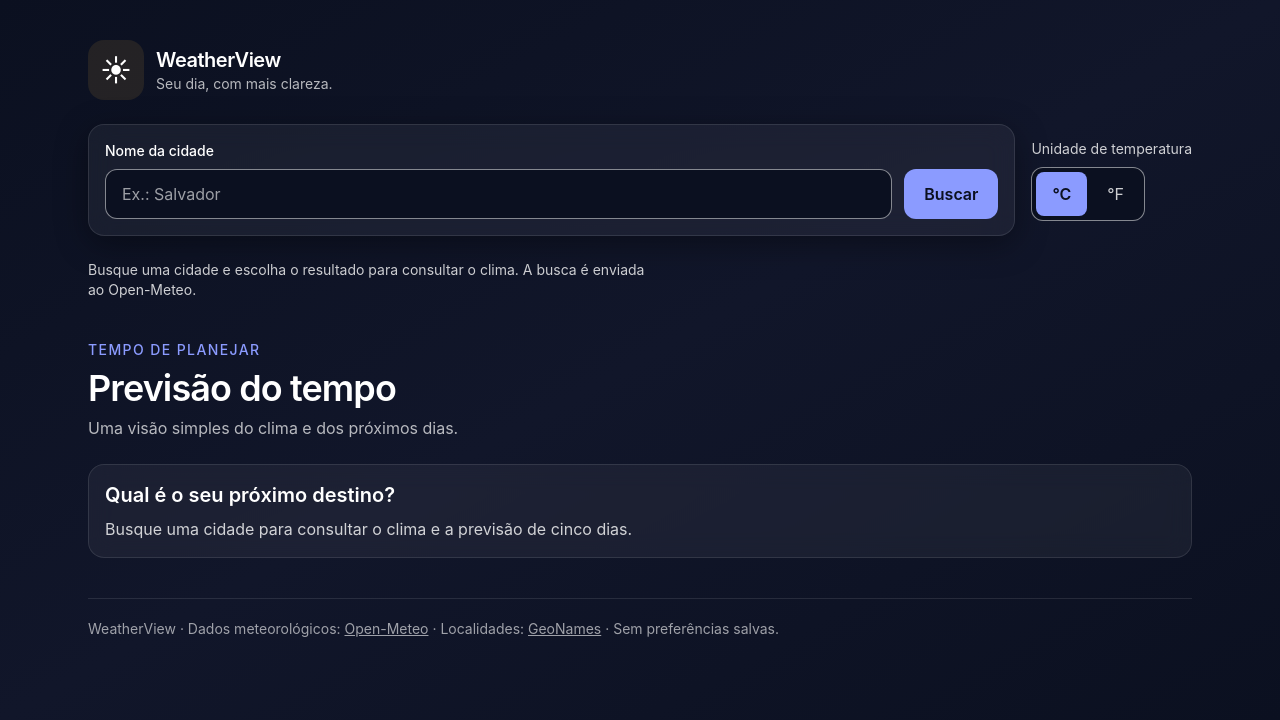
Test: App integrado › não permite selecionar homônimos sem contexto distintivo
The image size is (1280, 720).
Type "Salvador" into the field. click: (499,194)
box: [105, 169, 892, 219]
Then press Enter
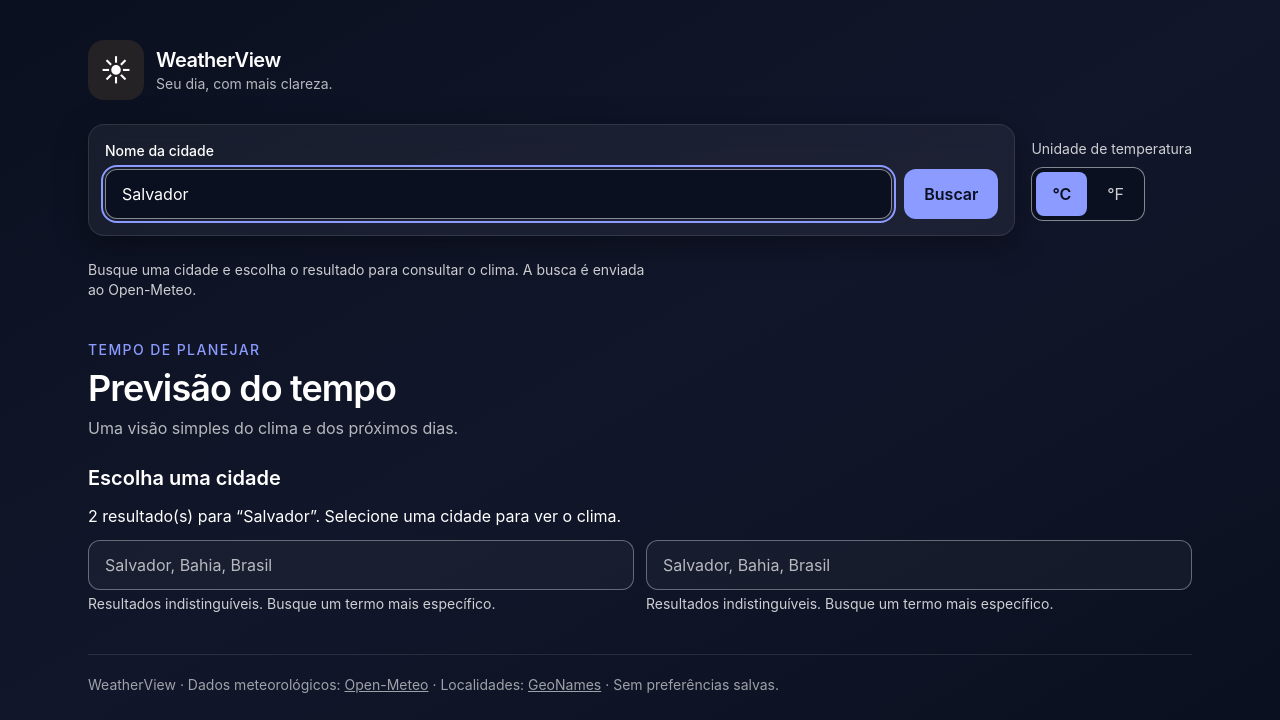
Result: the 1st button "Salvador, Bahia, Brasil" is disabled at [88, 540, 634, 590]
Result: the 2nd button "Salvador, Bahia, Brasil" is disabled at [646, 540, 1192, 590]
Result: the text "Resultados indistinguíveis. Busque um termo mais específico." is shown 2 times at [88, 595, 496, 612]; [646, 595, 1054, 612]
